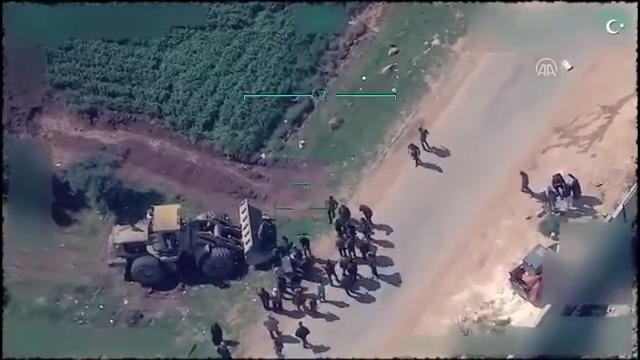arac: (97, 197, 274, 289)
insan: (251, 282, 274, 314), (291, 319, 315, 348), (320, 194, 341, 221), (405, 139, 423, 170), (417, 125, 436, 153), (516, 170, 535, 197)
